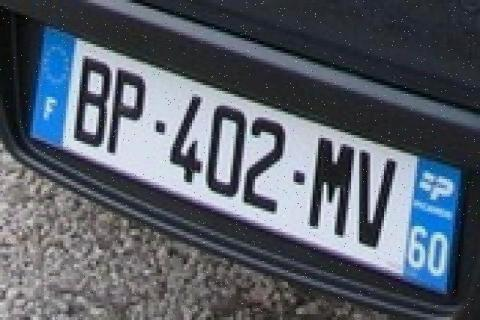LicensePlate: (25, 12, 472, 312)
